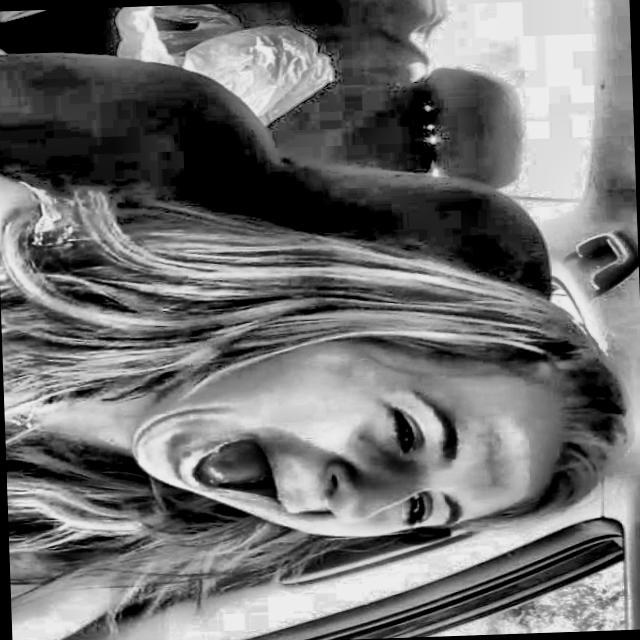open_eyes: (372, 397, 430, 463), (389, 485, 447, 541)
open_mouth: (169, 415, 299, 527)
